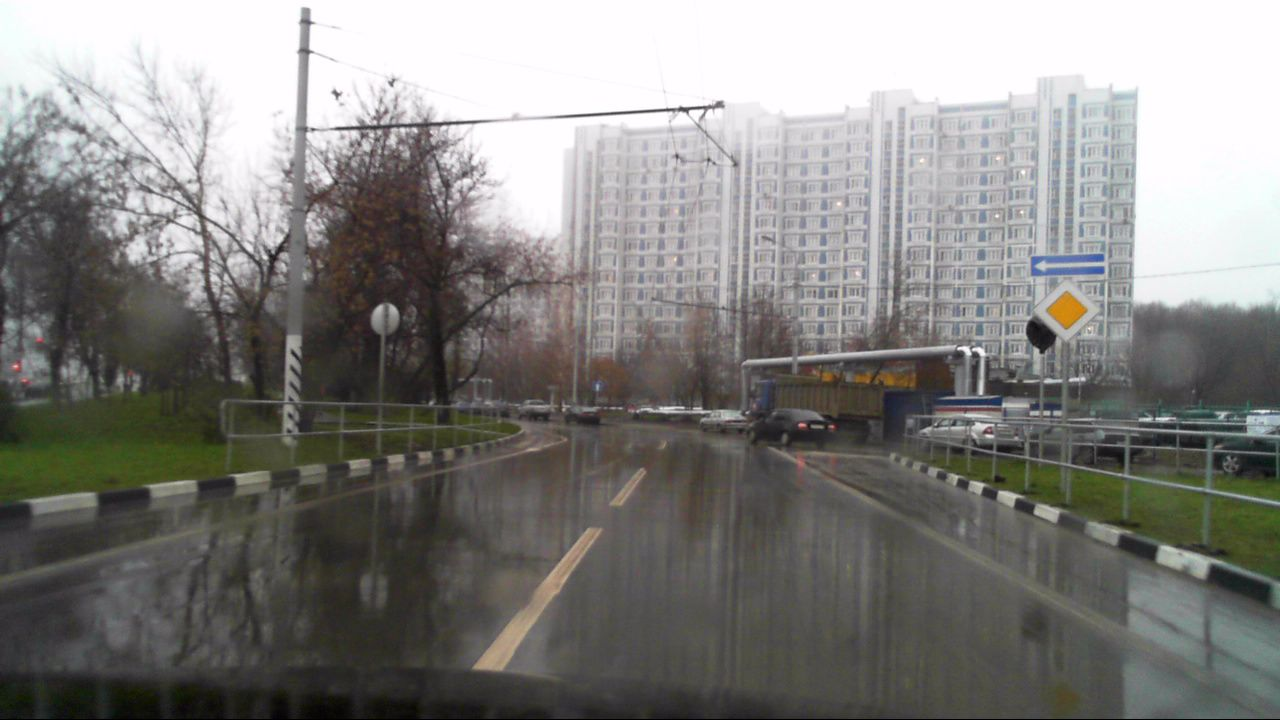One-Way Traffic: (1030, 254, 1105, 275)
